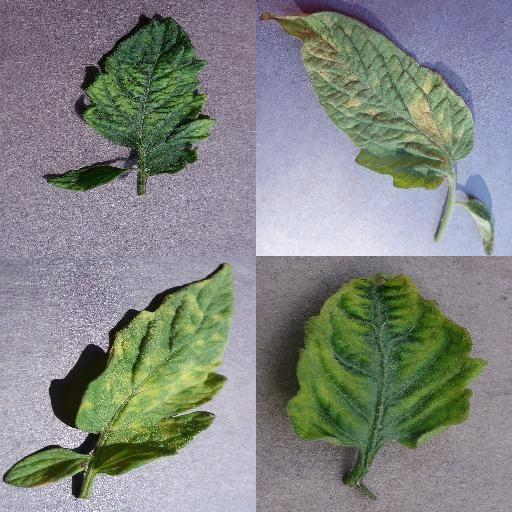Leaf Mold: (262, 11, 476, 191), (74, 264, 234, 478)
Mosaic Virus: (79, 12, 217, 174), (42, 161, 126, 191)
Yellow Leaf Curl Virus: (287, 273, 489, 451)
